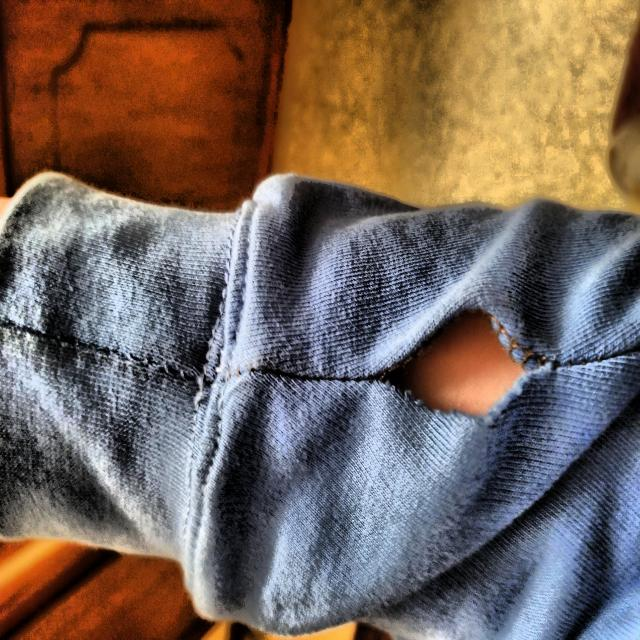seam: (353, 278, 563, 449)
